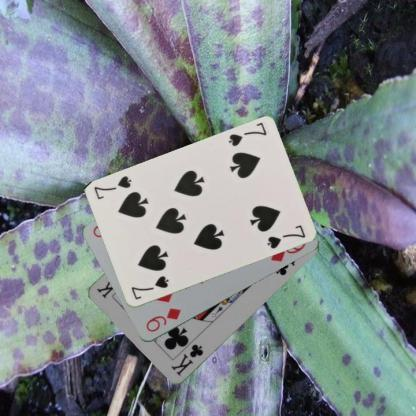7s: (128, 273, 170, 302), (225, 120, 268, 148)
9d: (142, 306, 182, 335)
Kc: (168, 342, 205, 378)
